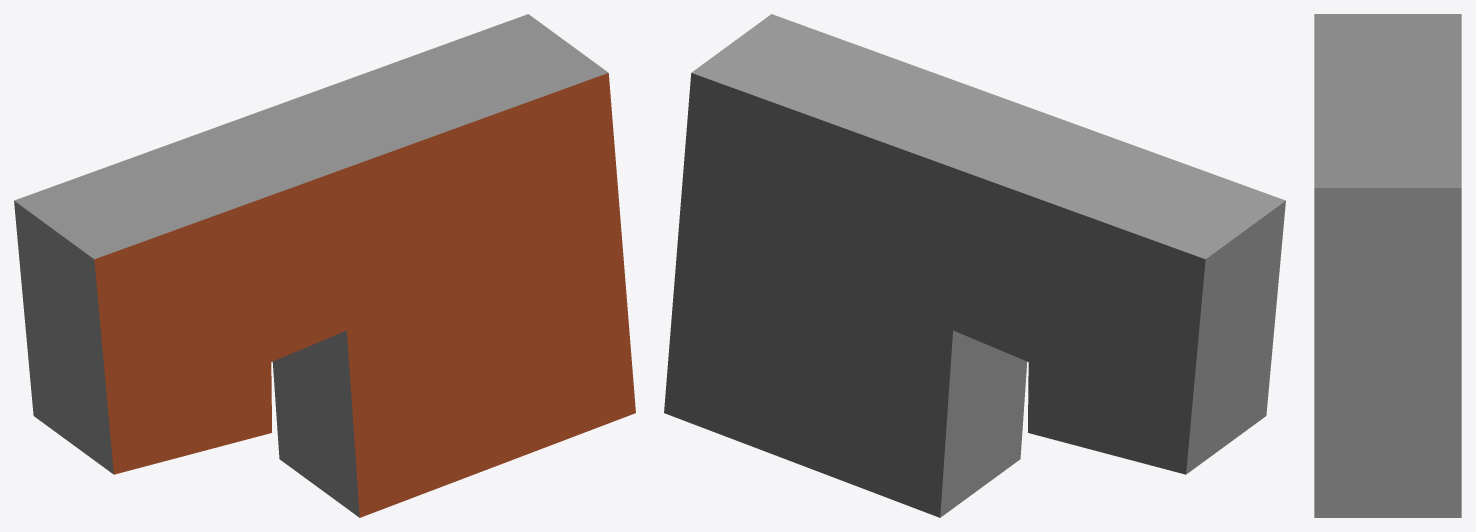
The model's file is construction_5701_assumed_A_Casa_h6m.obj.
3 views of the same model, side by side, from view 1: azimuth 30°, elevation 25°; view 2: azimuth 150°, elevation 25°; view 3: azimuth 270°, elevation 25° (orthographic). The views are drawn at different scales.
Parts seen in each view (by area): view 1: construction_5701_assumed_A_Casa; view 2: construction_5701_assumed_A_Casa; view 3: construction_5701_assumed_A_Casa.
Boxes of the visible parts, x1,y1,x2,y2 form: construction_5701_assumed_A_Casa: [14, 14, 635, 517]; construction_5701_assumed_A_Casa: [664, 14, 1285, 517]; construction_5701_assumed_A_Casa: [1314, 14, 1461, 517].
Size of the model in its own units: 23.35 by 15.84 by 6.
